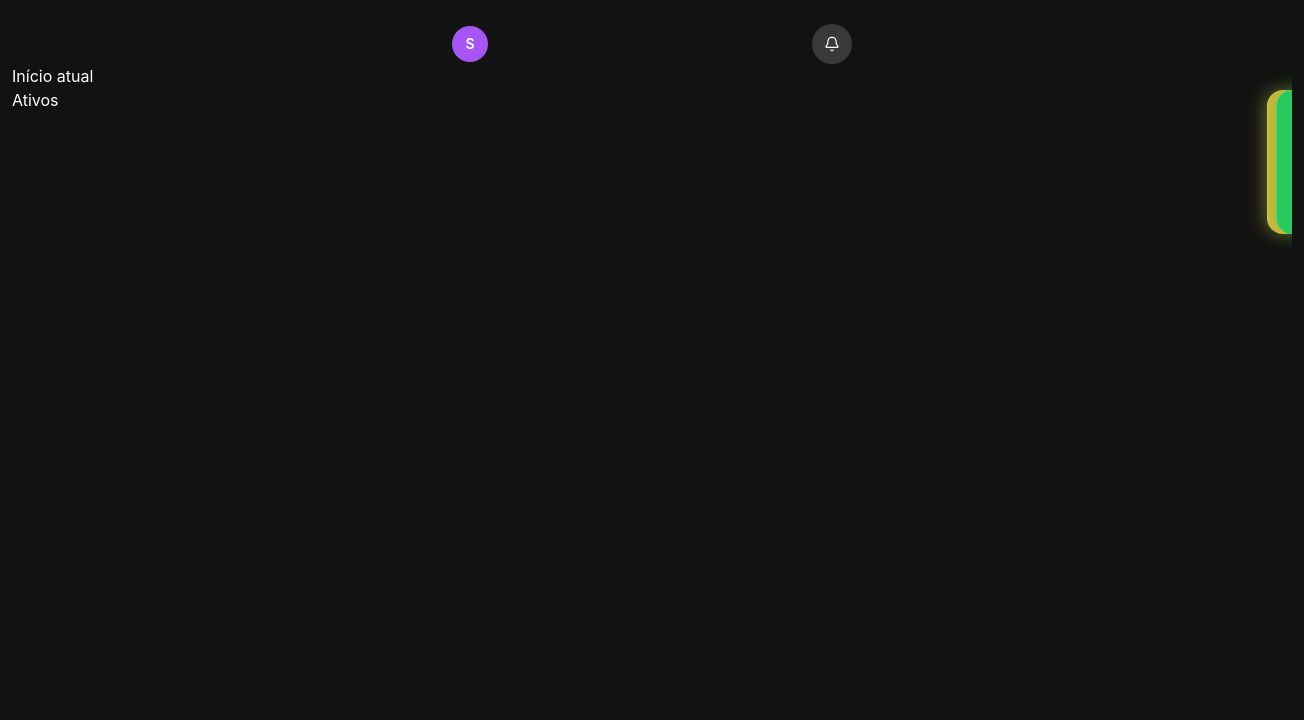
Scenario: Carteira inicial no celular › mantém o conteúdo atual do início enquanto reconecta o seletor lateral
Expected: the heading "Início atual" is shown, 12,66 -> 93,86
Expected: the link "Ativos" is shown, 12,90 -> 59,110
Press the mouse on the element "Início atual" at point(652, 320), box 12,0 -> 1292,640
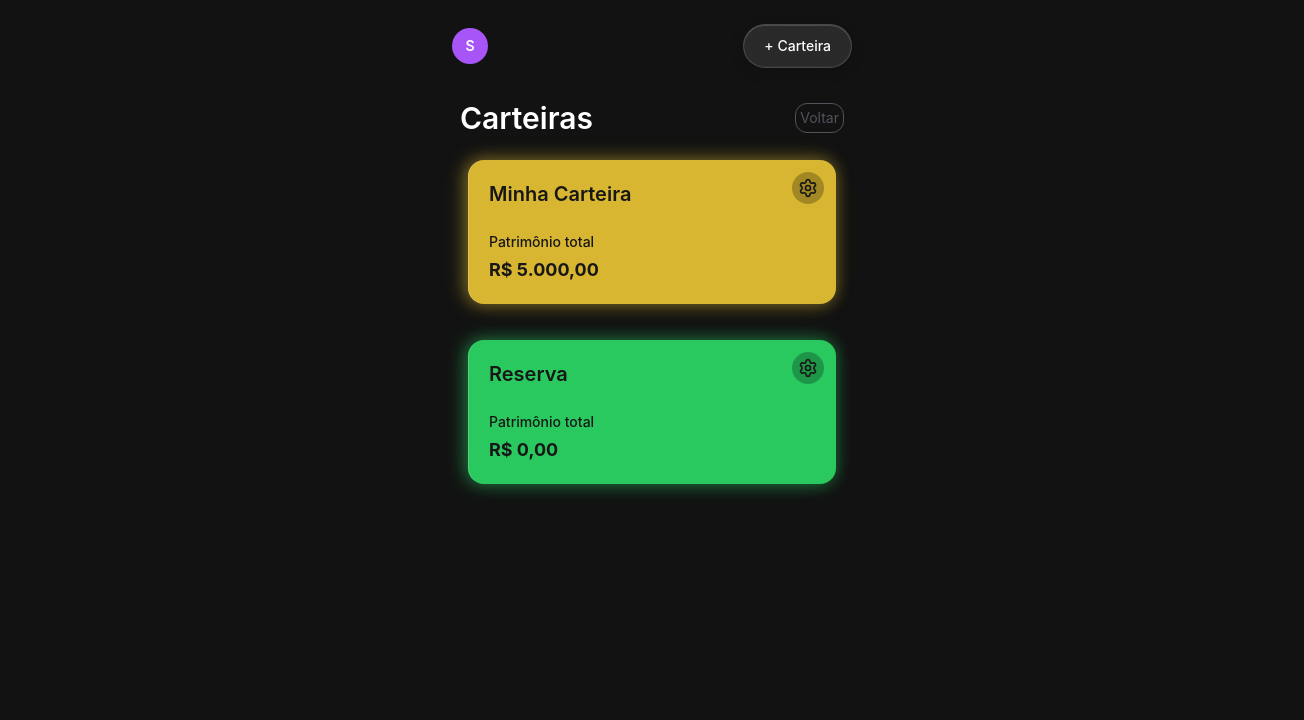
Expected: the heading "Carteiras" is shown, 460,100 -> 593,136
Click the button with aria-label "Selecionar Reserva". click: point(528, 374)
box: 489,360 -> 816,464
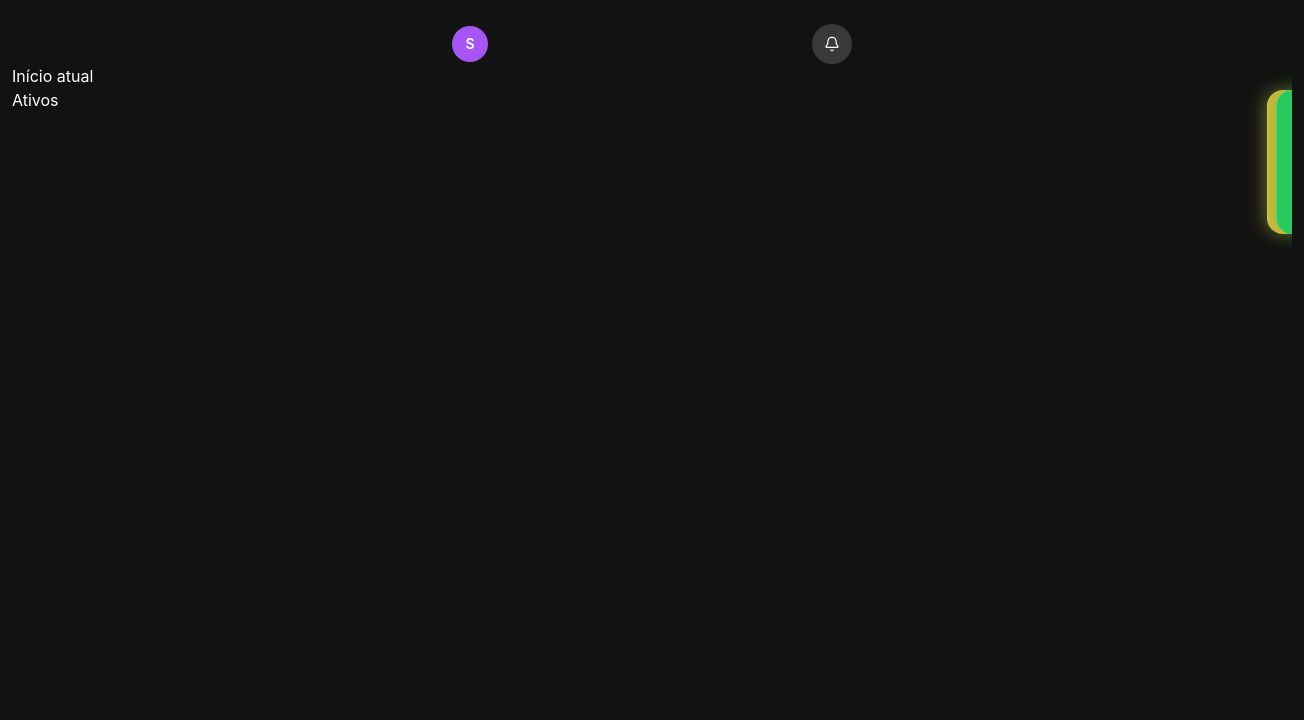
Expected: the heading "Início atual" is shown, 12,66 -> 93,86
